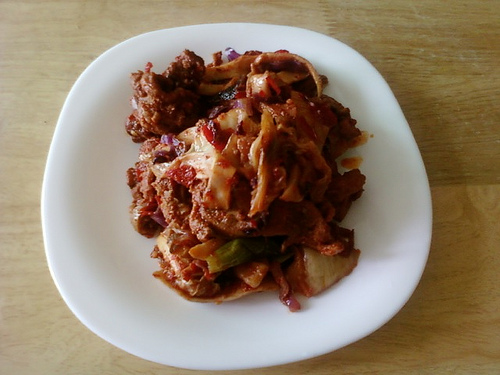bulgogi: (121, 42, 366, 298)
